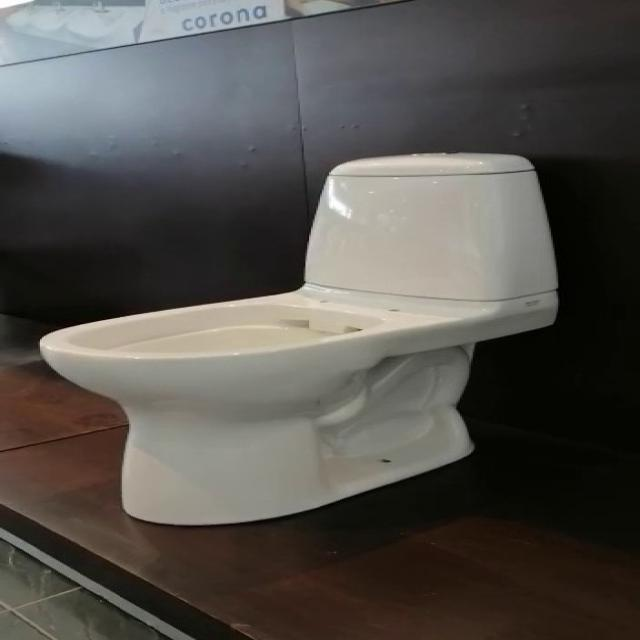toilet: (36, 146, 567, 530)
